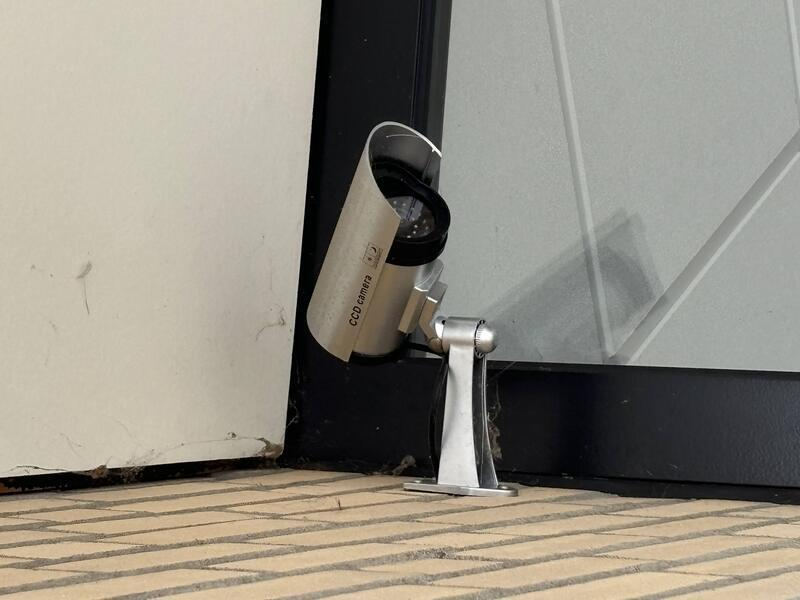bullet: (215, 295, 491, 469)
